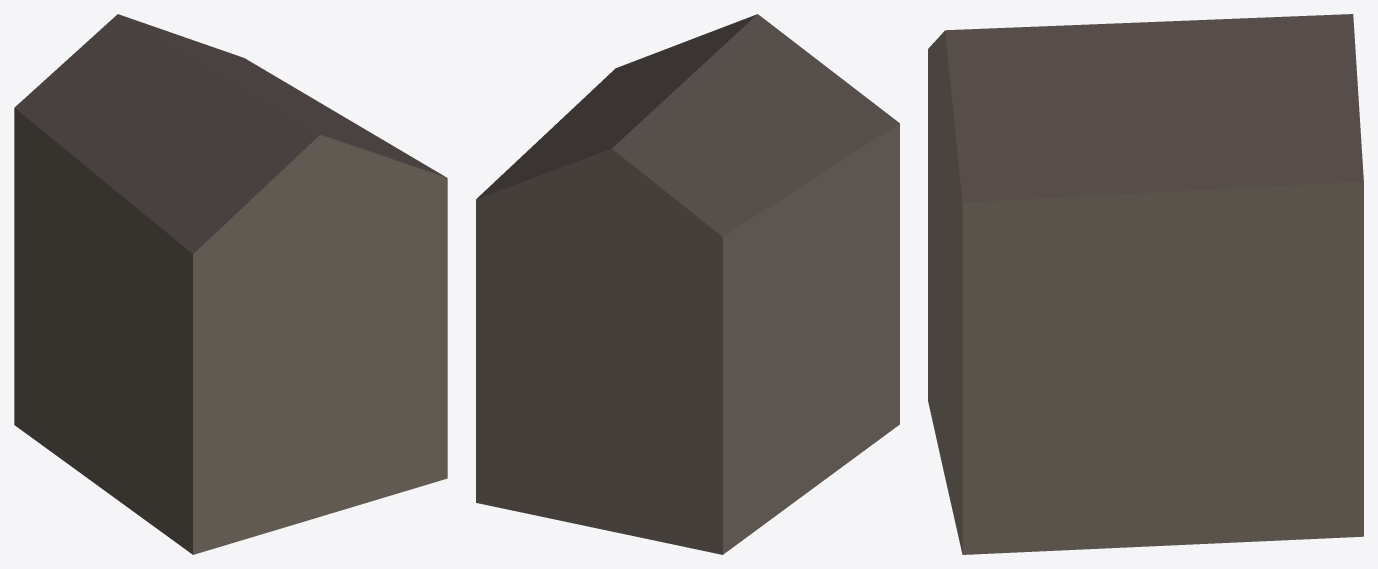
3 renders of one model, left to right at view 1: azimuth 30°, elevation 25°; view 2: azimuth 150°, elevation 25°; view 3: azimuth 270°, elevation 25°, orthographic. The views are drawn at different scales.
Parts seen in each view (by area): view 1: HP-w1512965866; view 2: HP-w1512965866; view 3: HP-w1512965866.
Part boxes in pixels (x1,y1,x2,y2): HP-w1512965866: (14, 14, 447, 554); HP-w1512965866: (476, 14, 899, 554); HP-w1512965866: (928, 14, 1363, 554).
Size of the model in its own units: 5.64 by 7.63 by 6.73.
